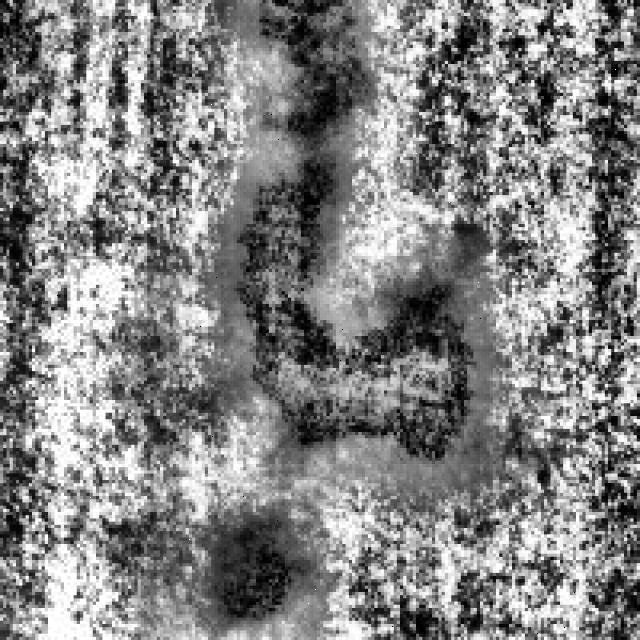Scratches: (233, 147, 492, 474), (256, 0, 378, 141), (218, 499, 316, 624)
